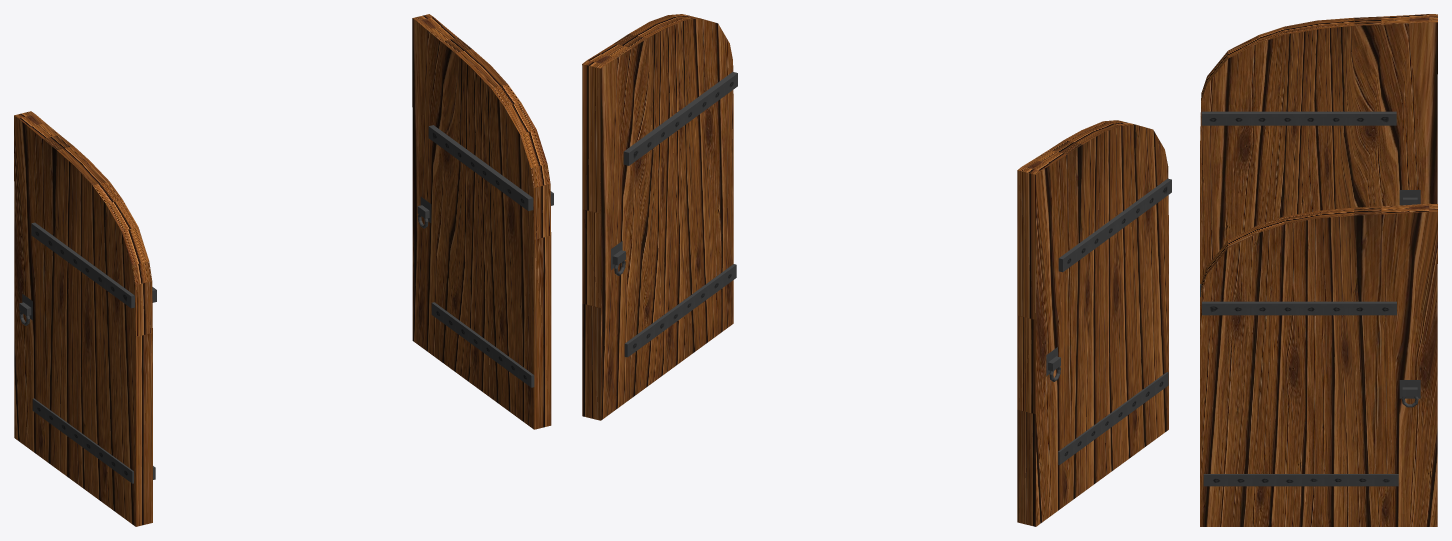
The model's file is Door2Tiles1Open.glb.
3 views of the same model, side by side, from view 1: azimuth 30°, elevation 25°; view 2: azimuth 150°, elevation 25°; view 3: azimuth 270°, elevation 25° (orthographic). The views are drawn at different scales.
Parts seen in each view (by area): view 1: Cube.002; view 2: Cube.002; view 3: Cube.002.
Boxes of the visible parts, x1,y1,x2,y2 form: Cube.002: (14, 14, 553, 526); Cube.002: (582, 14, 1171, 526); Cube.002: (1200, 14, 1437, 526).
Bounding box in the file's own units: 1.38 × 1 × 0.6853.
3 materials, 3 textured.
